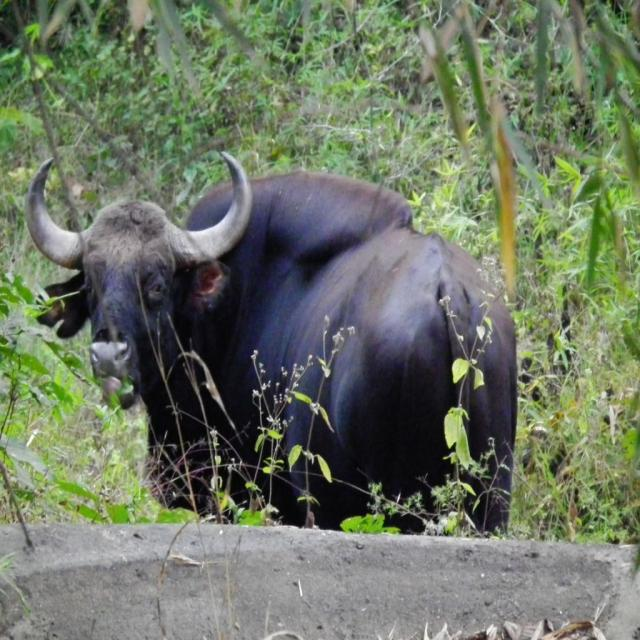Bull: (26, 152, 518, 537)
